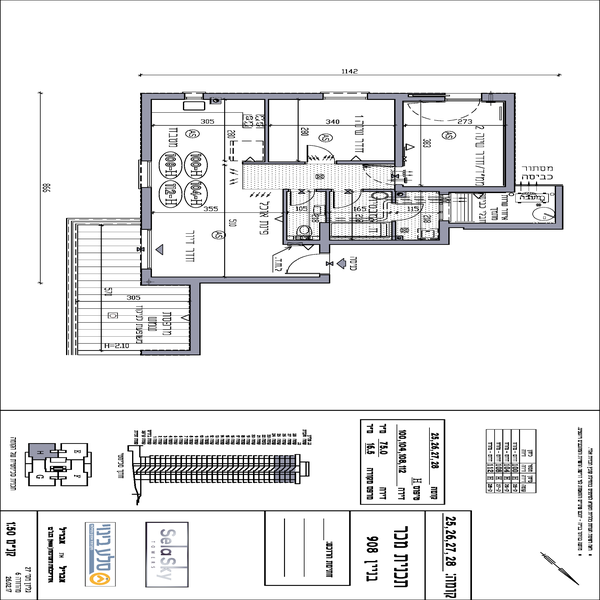door: (283, 252, 331, 275), (387, 197, 427, 221), (307, 141, 341, 163), (330, 187, 364, 209), (284, 186, 313, 208)
room: (137, 90, 272, 284), (392, 88, 518, 193), (266, 89, 407, 168), (284, 185, 450, 247)
wall: (142, 275, 332, 287), (450, 218, 564, 233), (396, 183, 511, 195), (504, 89, 517, 192), (328, 237, 449, 246), (138, 99, 155, 162), (393, 94, 408, 165), (138, 185, 159, 232), (187, 283, 199, 355), (553, 181, 569, 234), (372, 90, 445, 100), (261, 98, 272, 164), (210, 94, 324, 100), (341, 157, 393, 166), (437, 217, 454, 244), (139, 349, 191, 357), (139, 92, 185, 101), (321, 223, 335, 251), (243, 159, 305, 165), (482, 93, 518, 103)
window: (136, 232, 157, 270), (138, 159, 161, 184), (448, 88, 477, 107), (334, 88, 363, 103)
